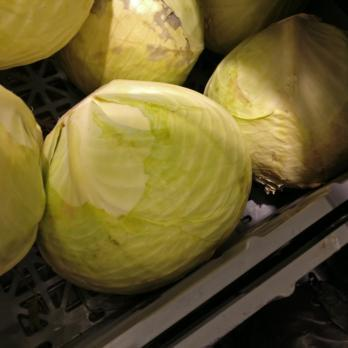Cabbage: (38, 71, 252, 296), (198, 8, 348, 185), (81, 0, 222, 84), (1, 90, 48, 283), (0, 0, 97, 69), (207, 5, 294, 43)
